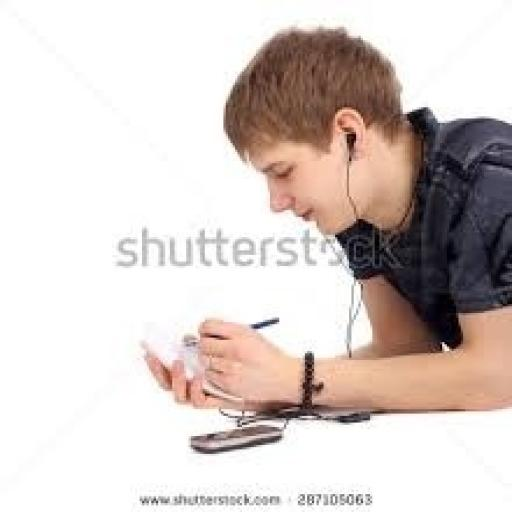listening_to_music: (137, 22, 510, 422)
